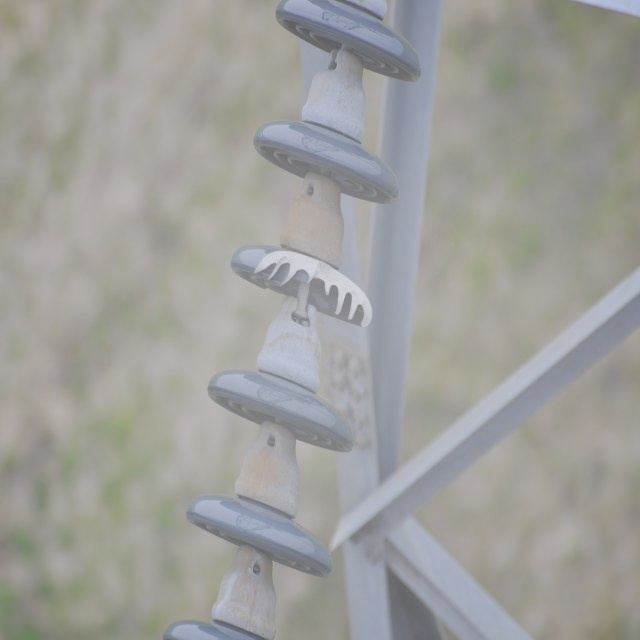broken: (252, 247, 373, 328)
insulator: (164, 4, 420, 640)
